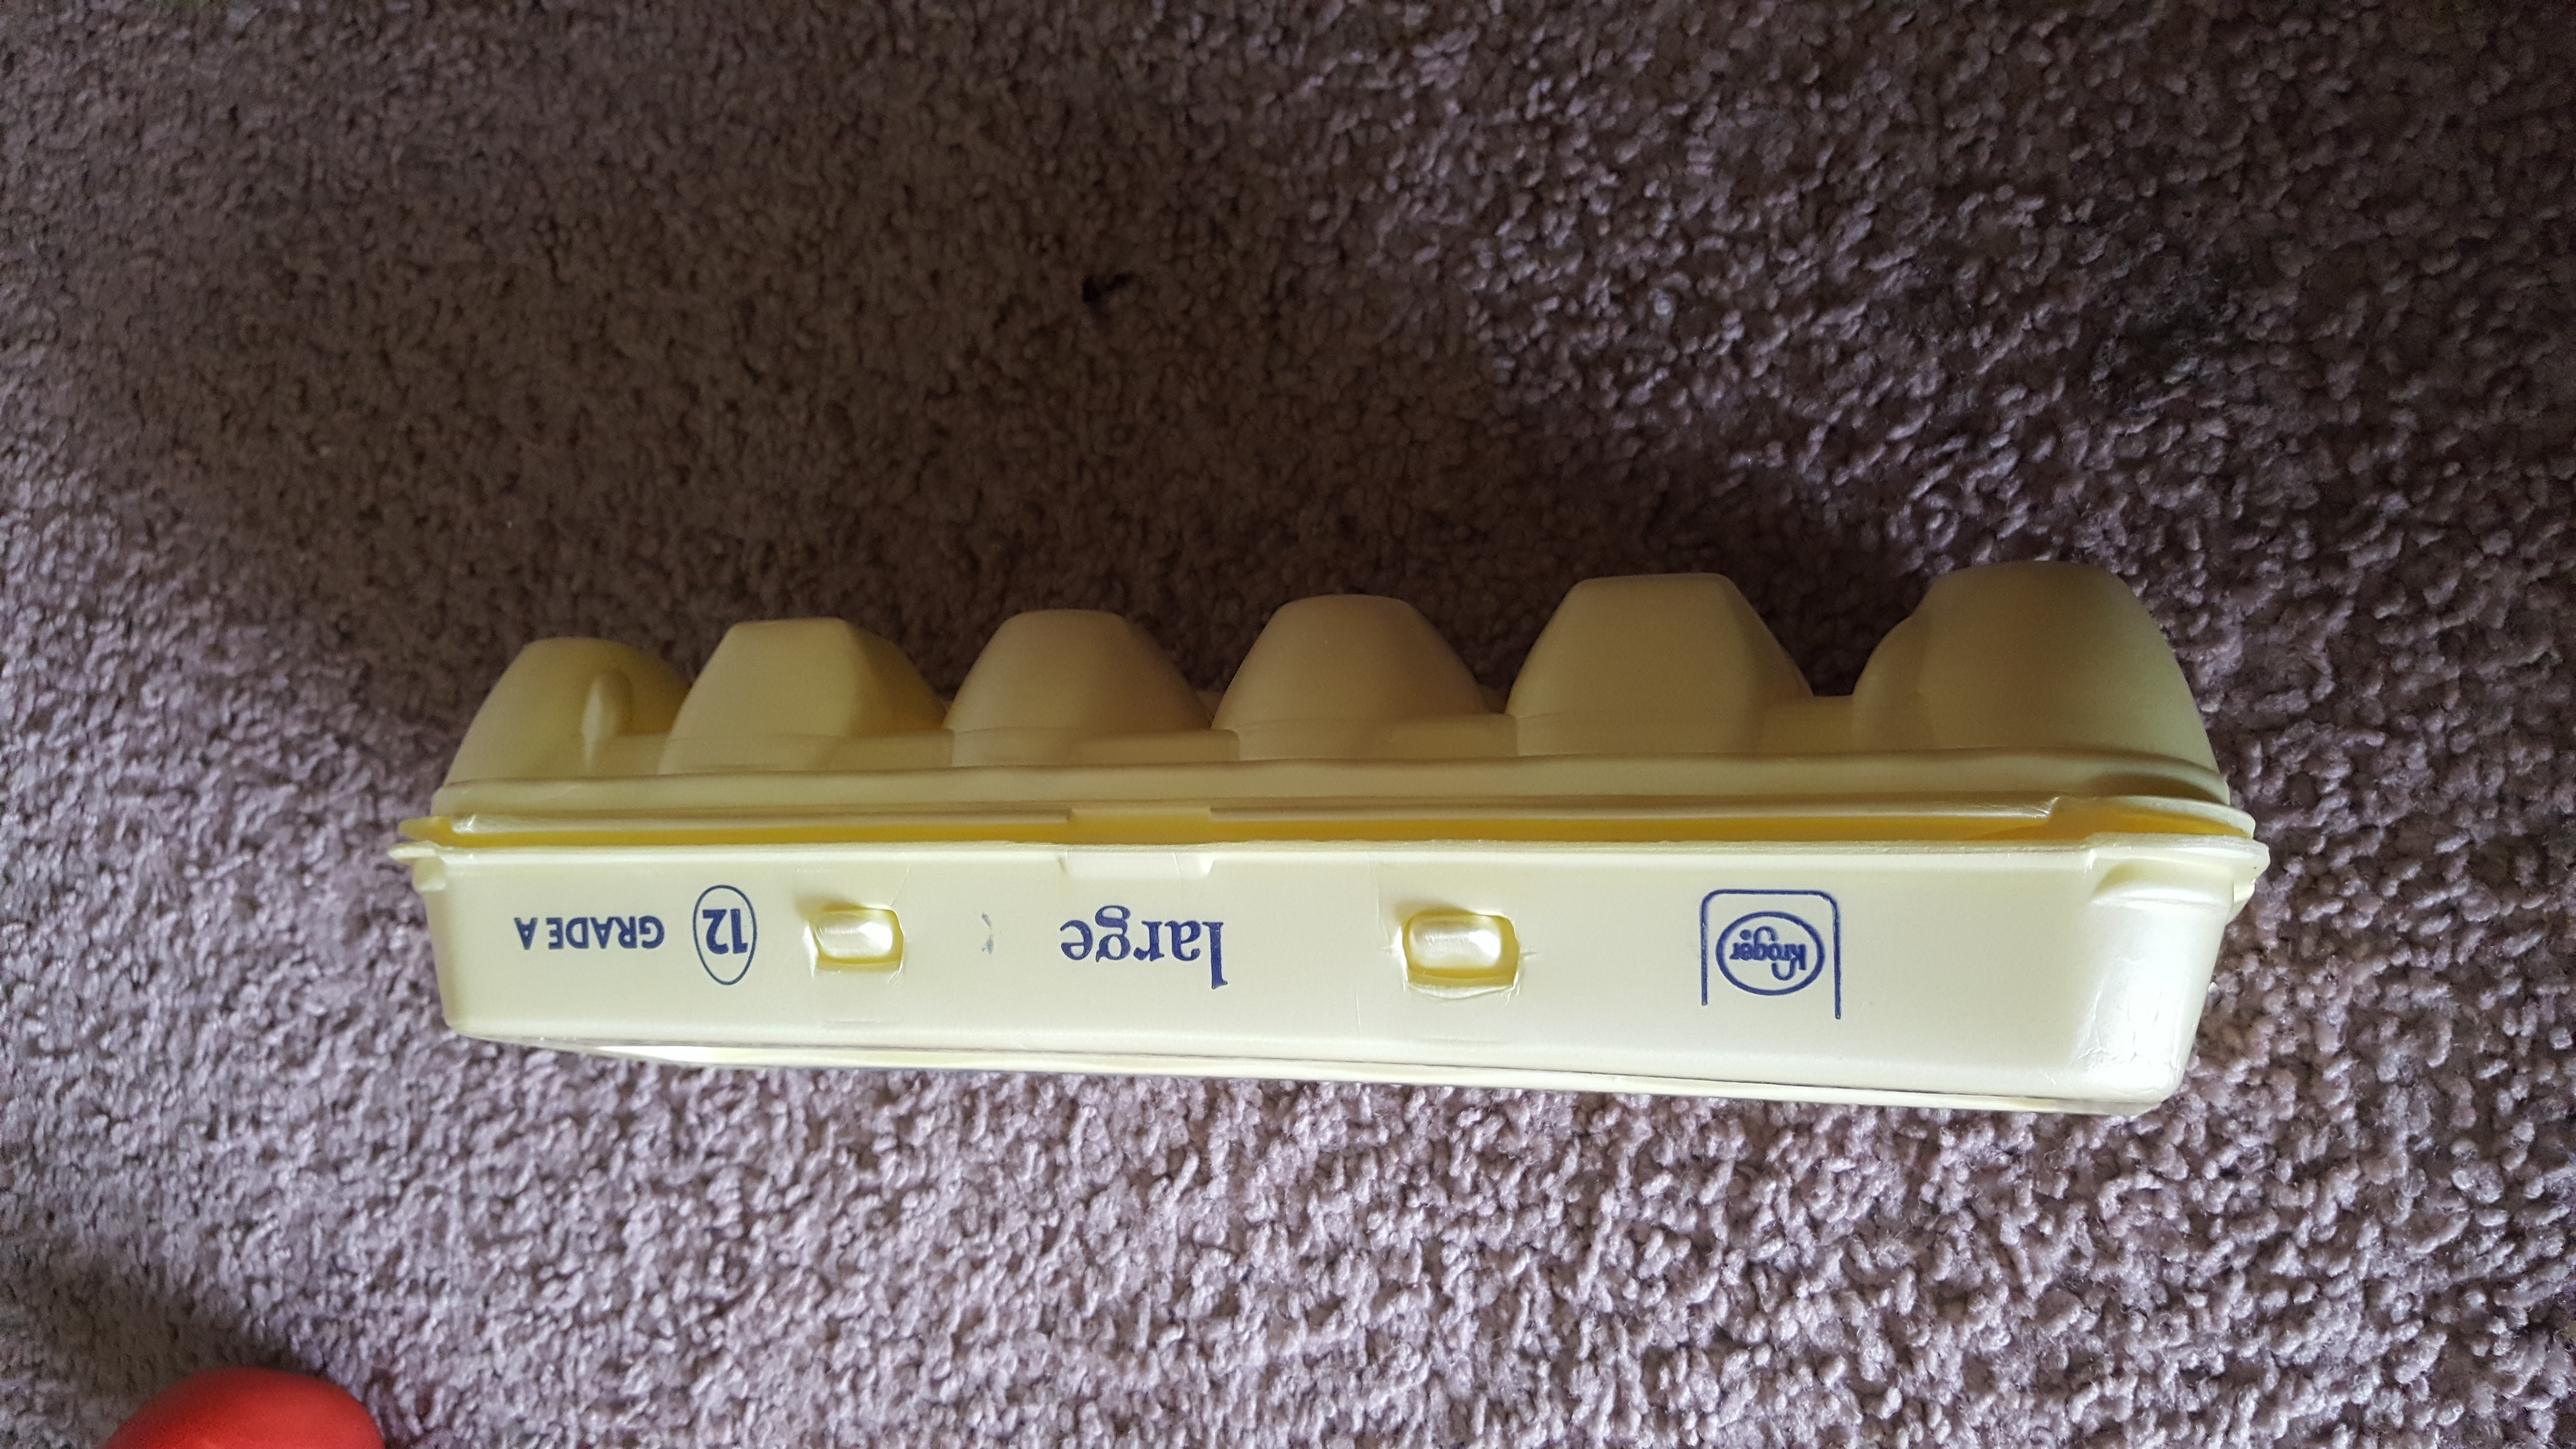eggs: (403, 554, 2272, 1145)
